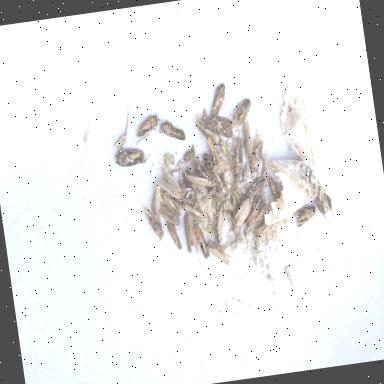abw: (246, 79, 336, 237)
pbw: (202, 150, 226, 195), (207, 234, 236, 268), (228, 196, 256, 228), (228, 135, 248, 179), (245, 136, 268, 174), (241, 196, 268, 228), (134, 114, 162, 144), (158, 165, 182, 200), (114, 145, 146, 169), (180, 196, 206, 225), (230, 98, 255, 128), (206, 83, 228, 117), (185, 170, 216, 192), (160, 118, 186, 144), (194, 155, 212, 192), (144, 207, 164, 240), (212, 202, 229, 240), (228, 192, 242, 238), (240, 118, 255, 160), (208, 116, 234, 140), (162, 188, 182, 218), (166, 219, 183, 253), (194, 224, 210, 260), (246, 176, 268, 202), (182, 214, 196, 254), (158, 204, 180, 228), (150, 182, 164, 214), (253, 220, 270, 237), (176, 158, 192, 175)
